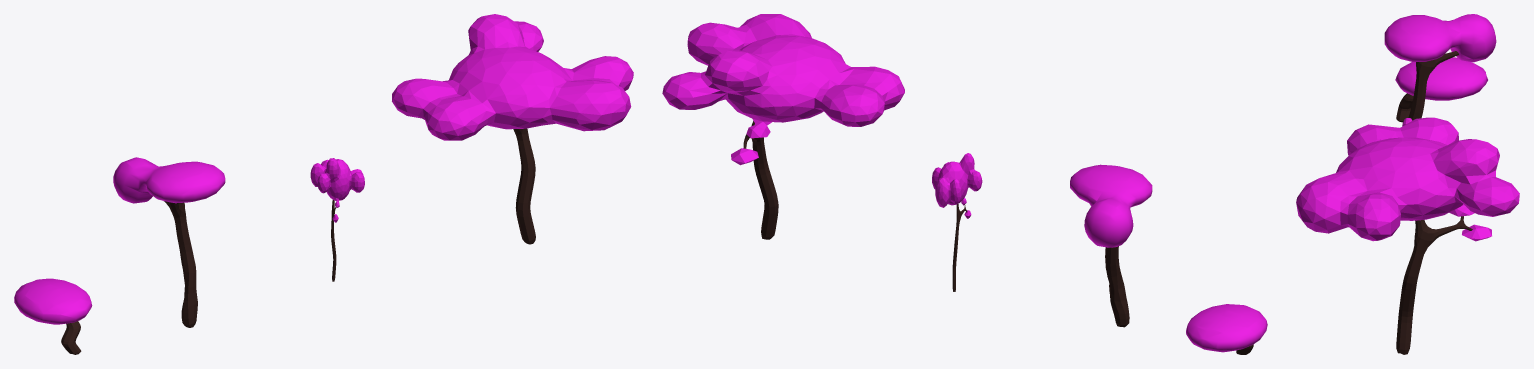
Rendered from First_Tree.fbx.
3 views of the same model, side by side, from view 1: azimuth 30°, elevation 25°; view 2: azimuth 150°, elevation 25°; view 3: azimuth 270°, elevation 25° (orthographic). The views are drawn at different scales.
Parts seen in each view (by area): view 1: Mball.007, Mball, Cube.002, Mball.001, Cube, Cube.003; view 2: Mball.007, Mball, Mball.001, Cube, Cube.002; view 3: Mball.007, Mball, Cube, Cube.002, Cube.003.
Part boxes in pixels (x1,y1,x2,y2): Mball.007: (392,14,633,140); Mball: (14,157,225,324); Cube.002: (164,201,197,327); Mball.001: (310,158,364,222); Cube: (513,128,535,244); Cube.003: (61,321,81,354); Mball.007: (662,14,904,165); Mball: (1070,164,1267,352); Mball.001: (932,153,982,218); Cube: (743,121,778,239); Cube.002: (1105,246,1129,327); Mball.007: (1296,117,1519,241); Mball: (1384,14,1496,100); Cube: (1396,216,1472,354); Cube.002: (1408,51,1458,120); Cube.003: (1396,93,1413,122).
Size of the model in its own units: 4792 by 1591 by 1536.
